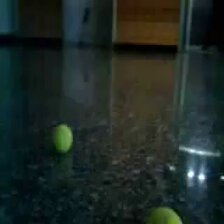tennis: (51, 122, 73, 154)
